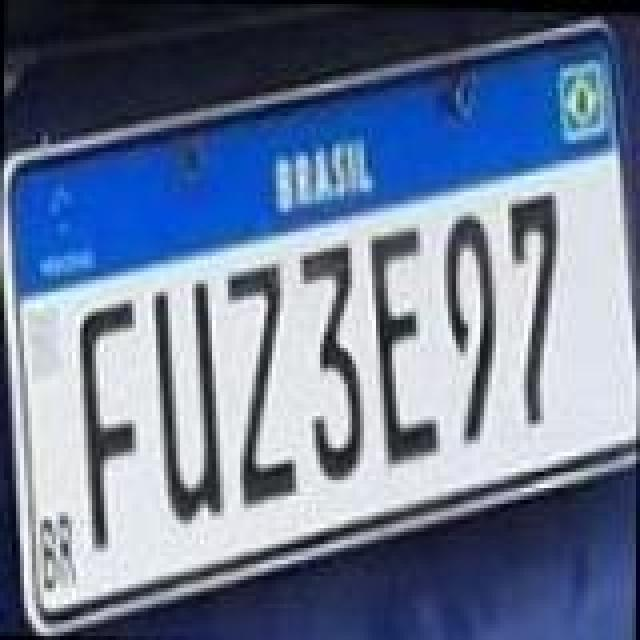3: (298, 242, 374, 486)
7: (502, 188, 562, 424)
9: (440, 212, 504, 444)
E: (368, 220, 448, 464)
F: (76, 292, 144, 552)
U: (150, 276, 230, 524)
Z: (222, 256, 302, 512)
